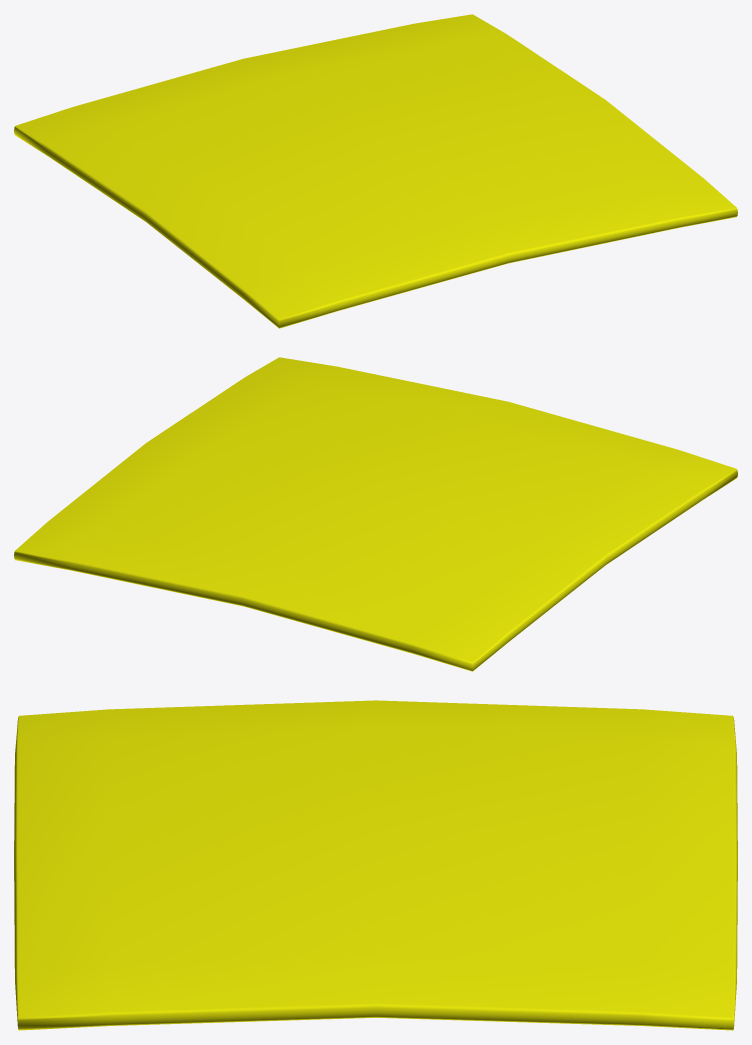
File: QuesoPreparado.fbx
3 renders of one model, top to bottom at view 1: azimuth 30°, elevation 25°; view 2: azimuth 150°, elevation 25°; view 3: azimuth 270°, elevation 25°, orthographic. The views are drawn at different scales.
Parts seen in each view (by area): view 1: pCube55; view 2: pCube55; view 3: pCube55.
Part boxes in pixels (x1,y1,x2,y2): pCube55: (14,14,737,328); pCube55: (14,357,737,671); pCube55: (14,700,737,1030).
Size of the model in its own units: 3.76 by 0.2923 by 3.76.
